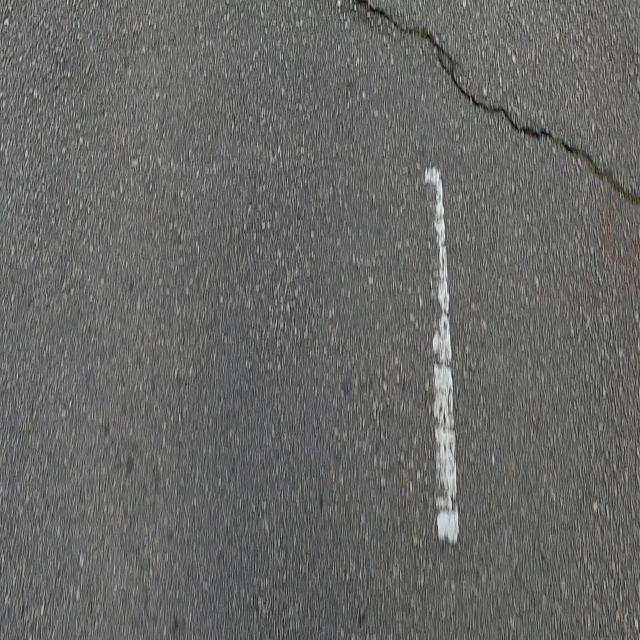Retak-Melintang: (358, 0, 639, 213)
